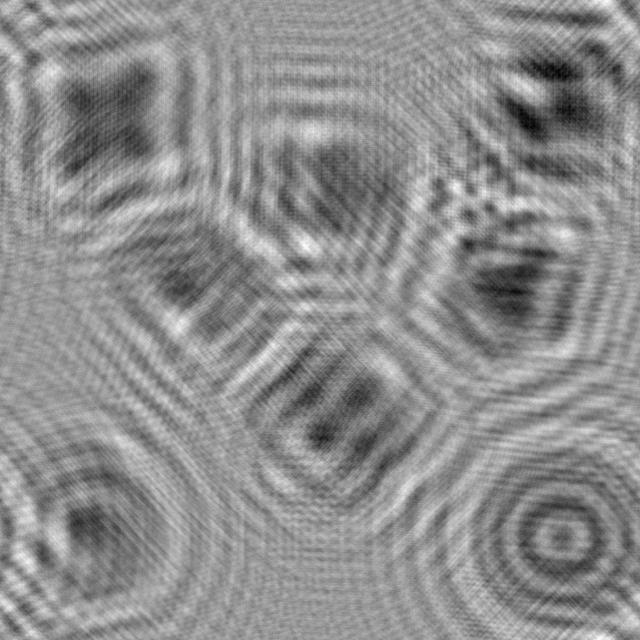A: (387, 157, 640, 405)
H: (207, 280, 476, 534)
J: (0, 395, 225, 640)
L: (53, 160, 310, 411)
O: (448, 418, 640, 640)
T: (194, 56, 440, 294)
W: (426, 0, 629, 220)
X: (0, 0, 229, 247)
